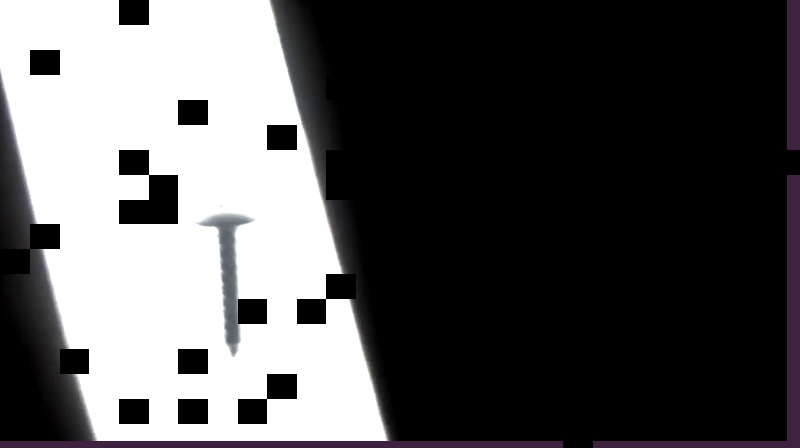S003: (189, 196, 261, 360)
